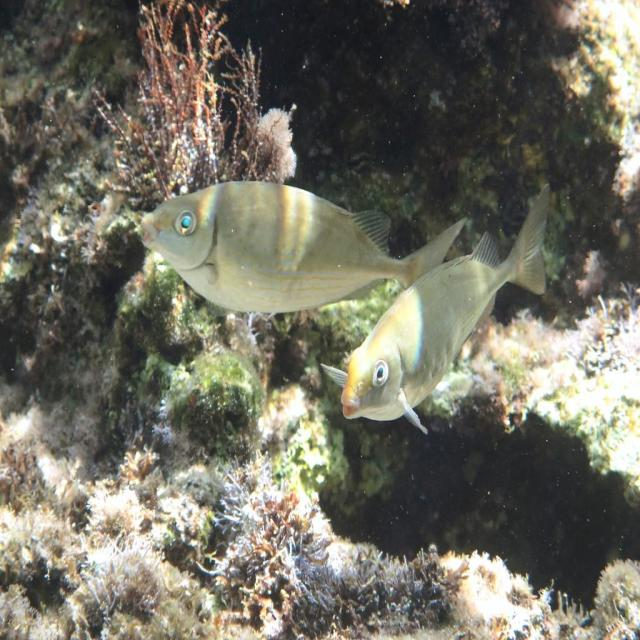Sokar Baligi: (316, 170, 578, 438)
